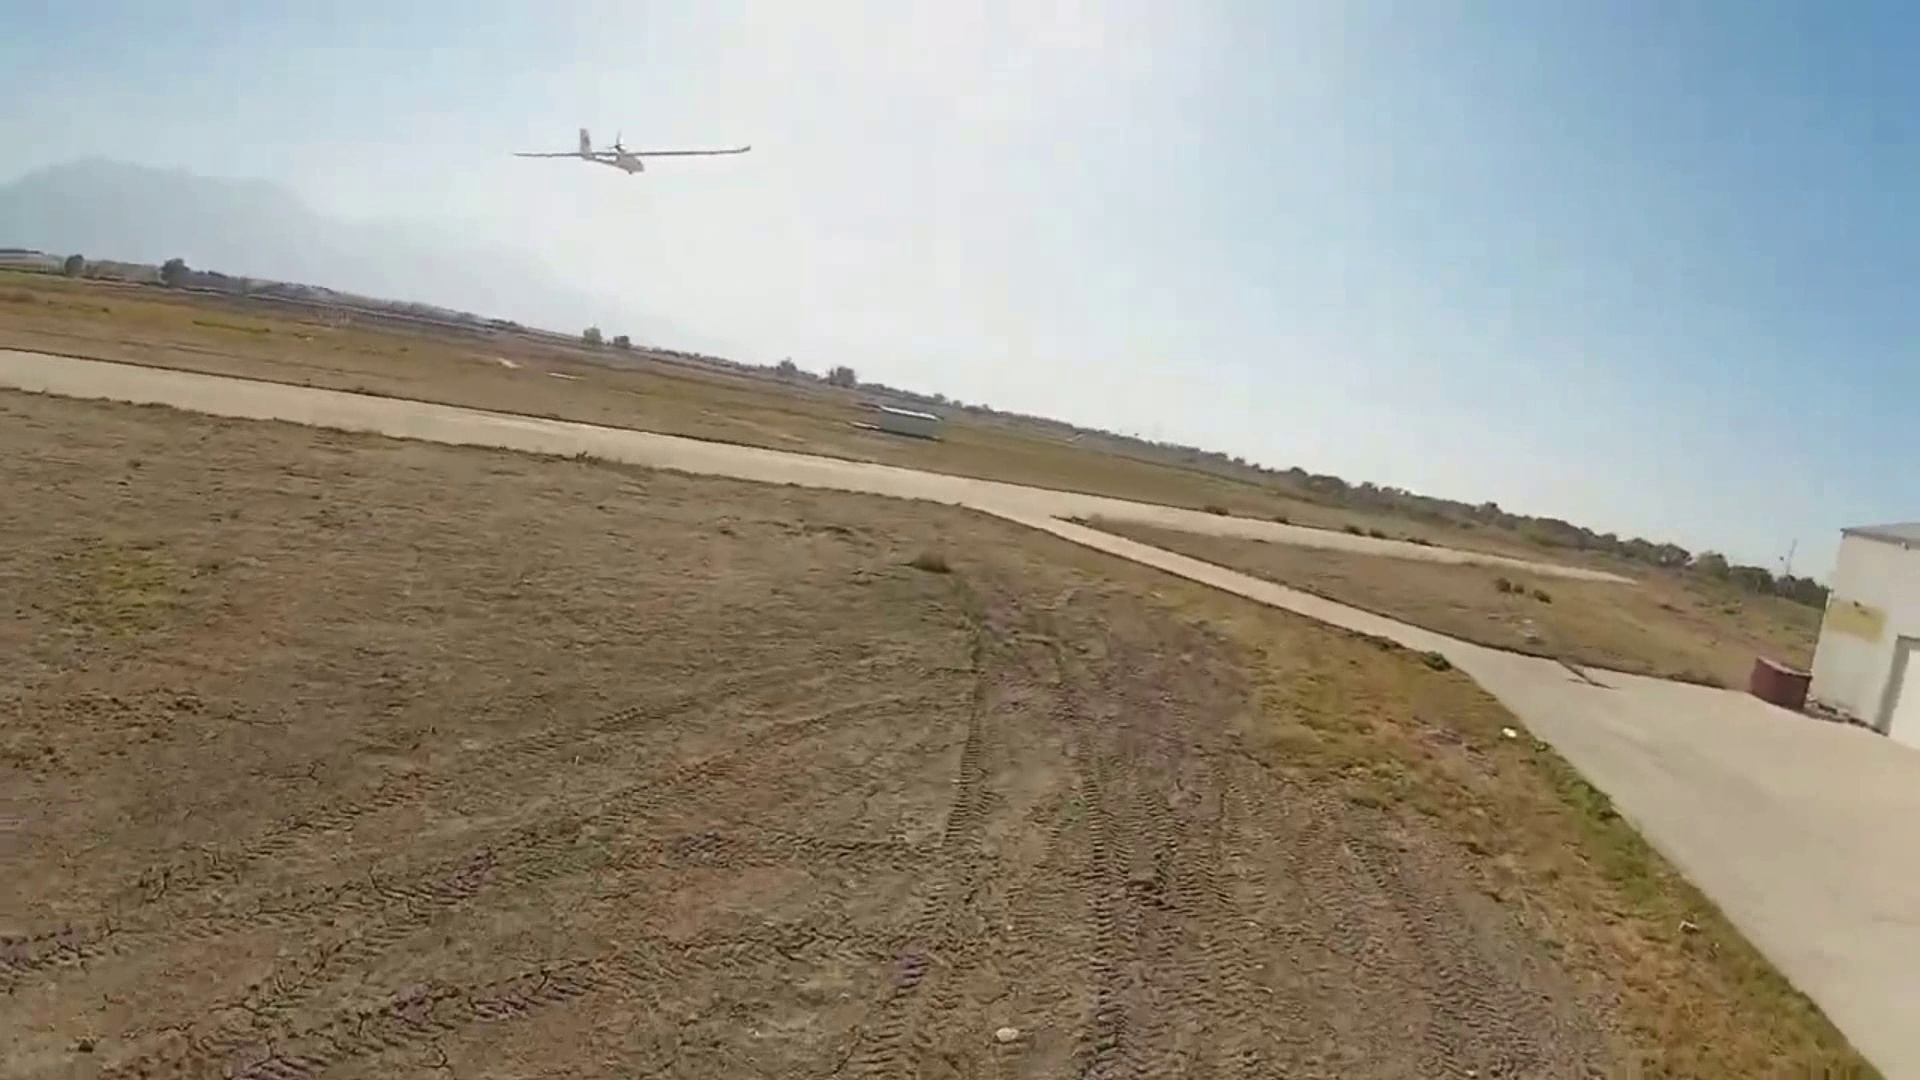airplane: (512, 125, 754, 173)
